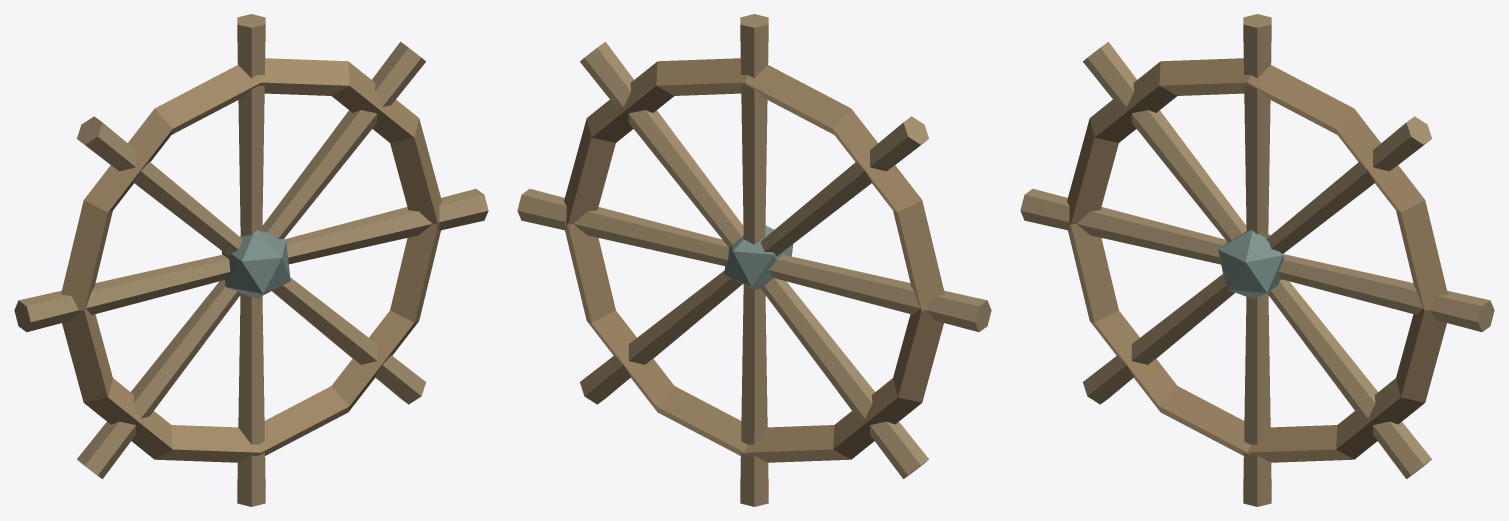
Rendered from map-exclusive-v3__shore_11.glb.
3 renders of one model, left to right at view 1: azimuth 30°, elevation 25°; view 2: azimuth 150°, elevation 25°; view 3: azimuth 330°, elevation 25°, orthographic.
Visible parts, largest first — view 1: shore_11; view 2: shore_11; view 3: shore_11.
Part boxes in pixels (bbox=[...]): shore_11: bbox=[14, 14, 488, 506]; shore_11: bbox=[517, 14, 991, 506]; shore_11: bbox=[1020, 14, 1494, 506].
Size of the model in its own units: 1.76 by 1.76 by 0.2212.
